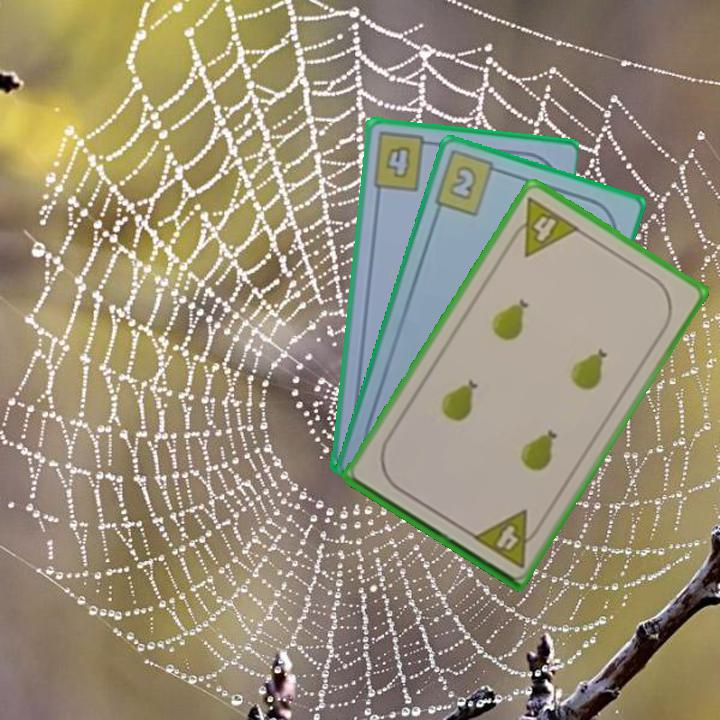2b: (430, 147, 508, 219)
4b: (368, 129, 437, 194)
4p: (503, 193, 583, 260), (468, 506, 546, 571)
